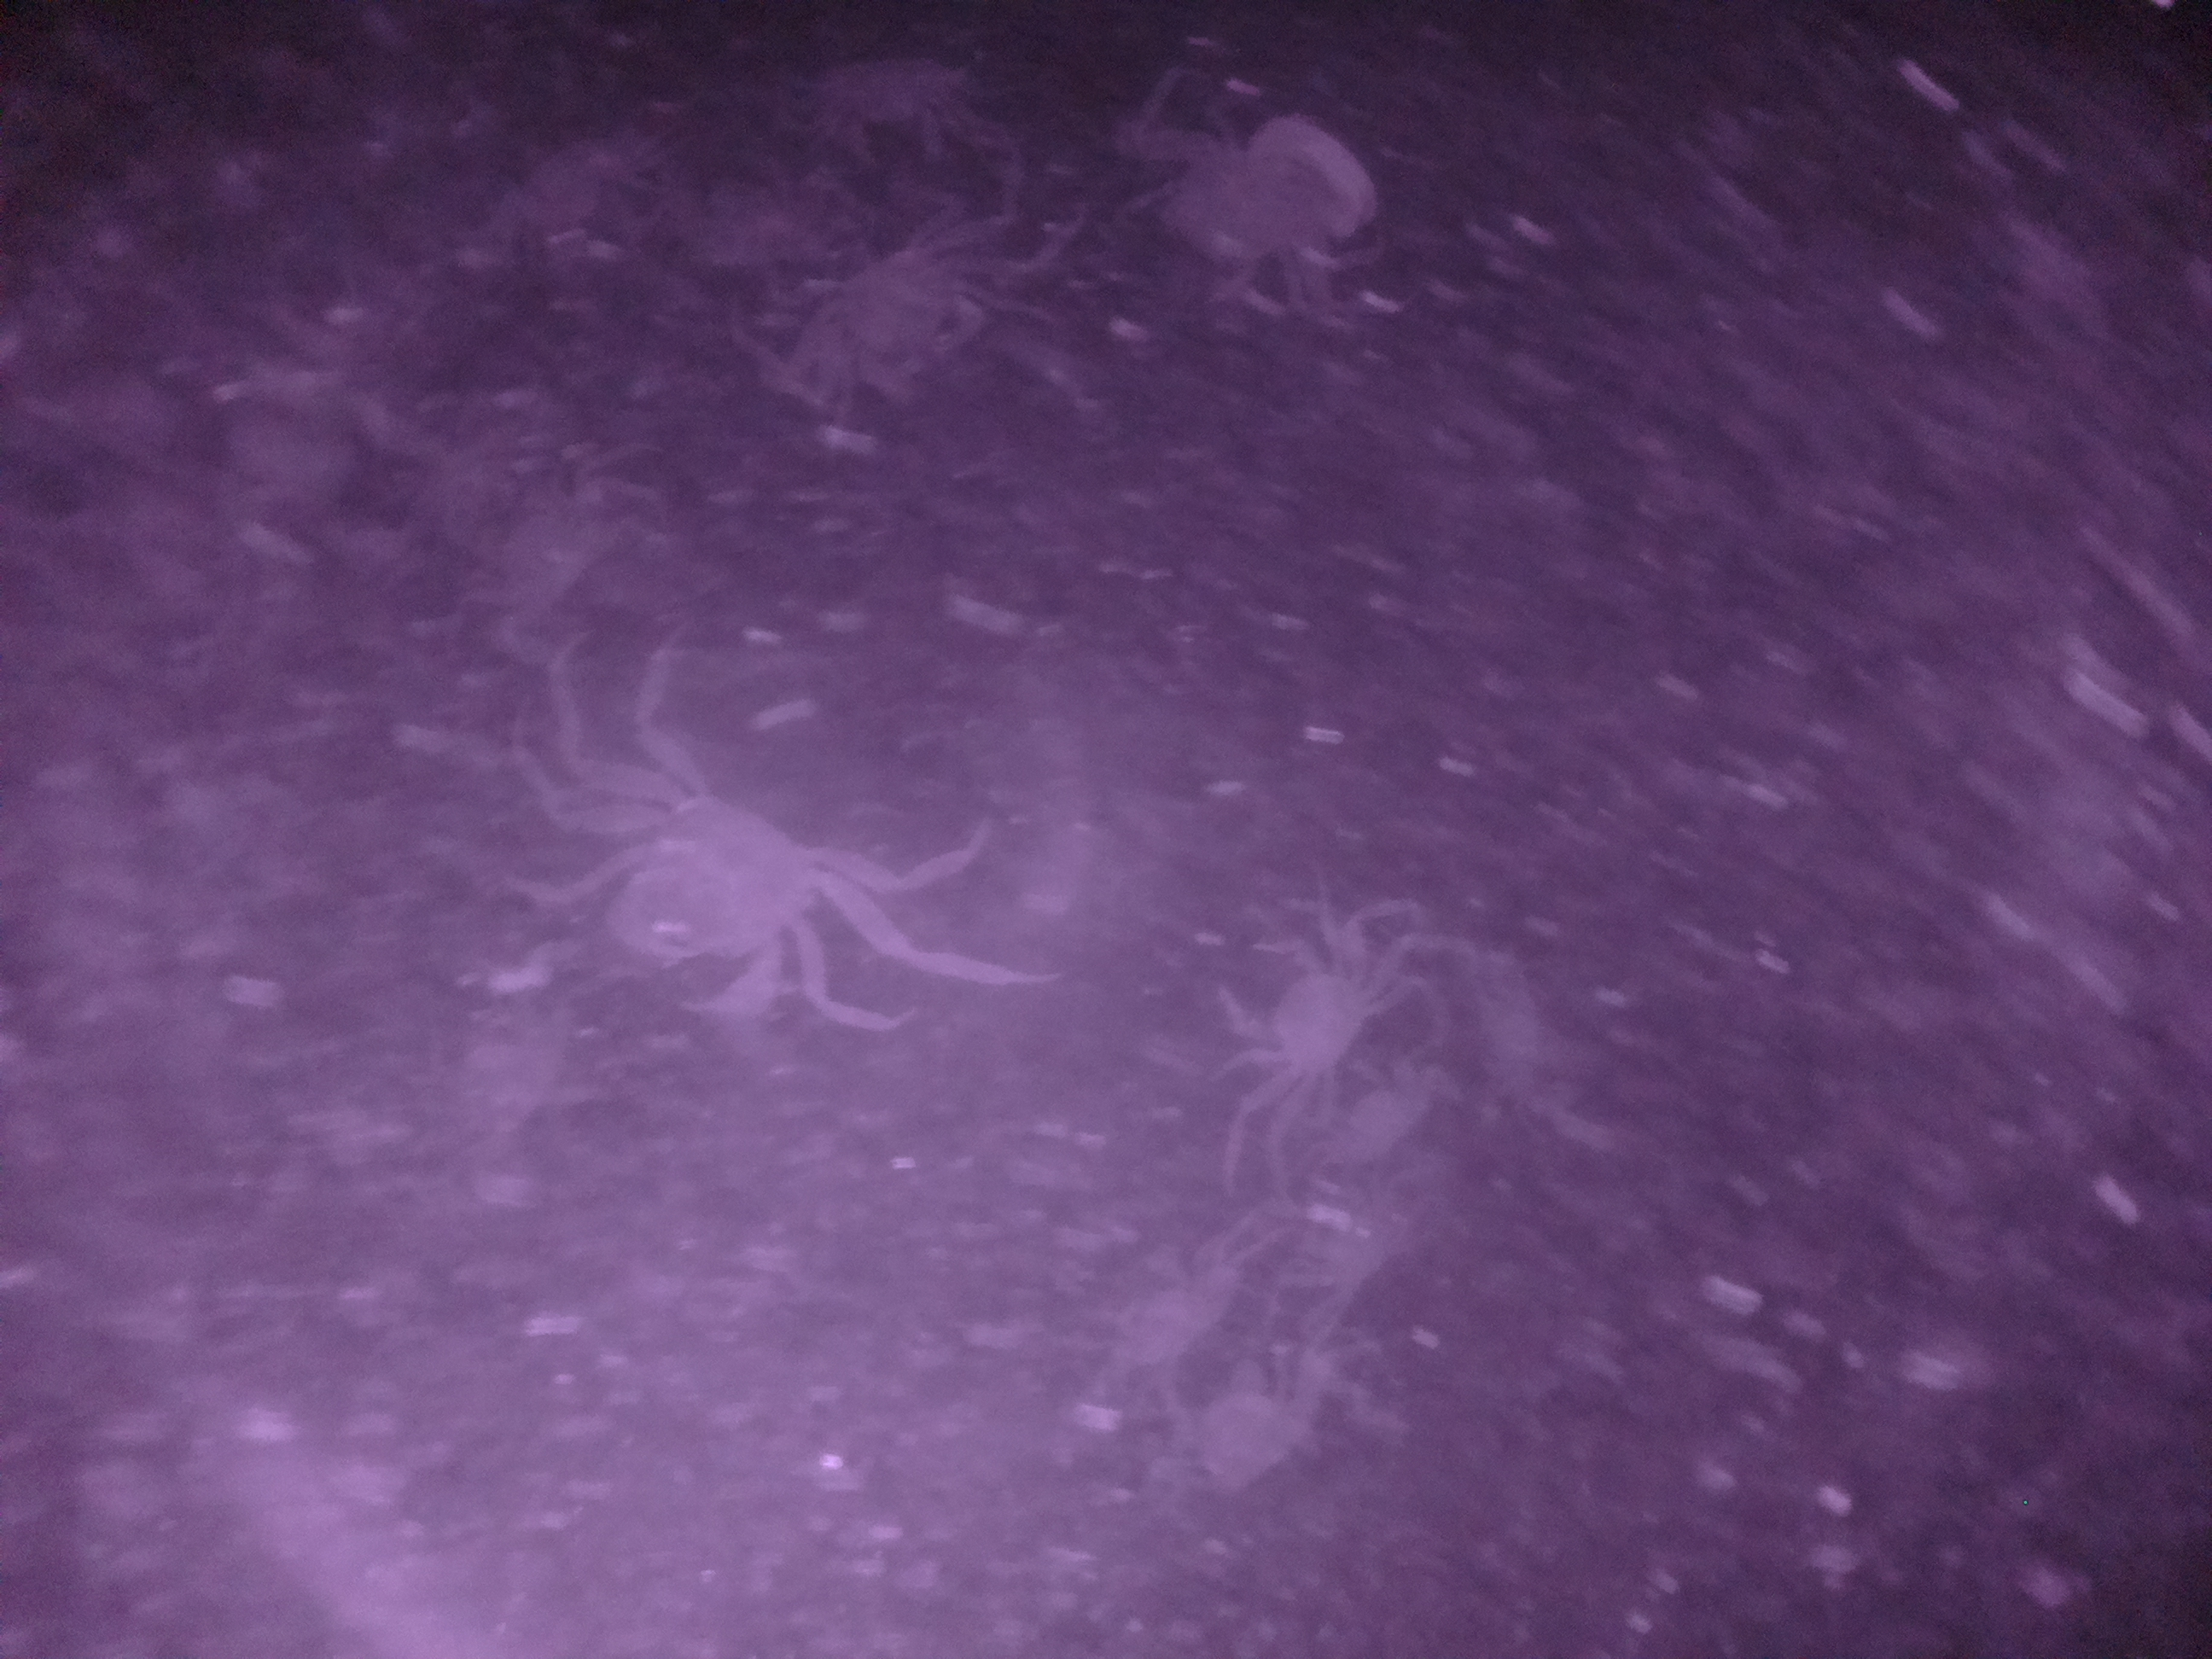Crab: (563, 760, 900, 1032), (815, 218, 1000, 410), (1217, 918, 1395, 1108)
